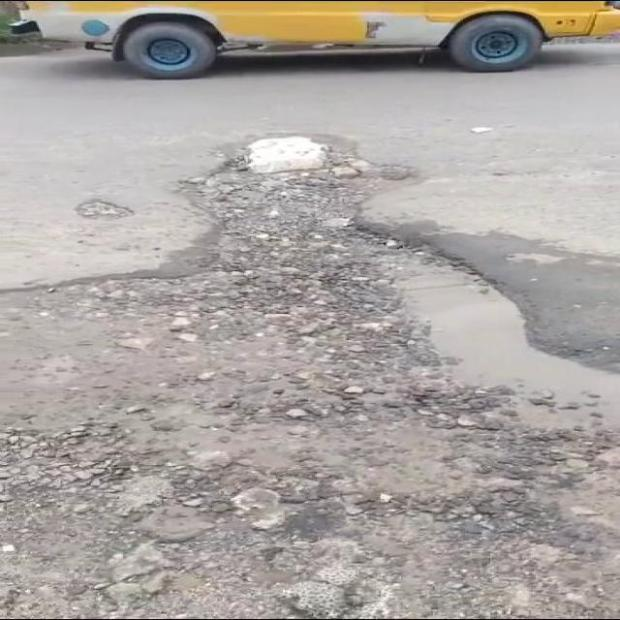lubang: (0, 158, 619, 615), (76, 198, 133, 219)
